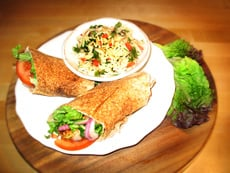curry: (153, 38, 215, 128), (166, 55, 215, 129)
soup: (45, 71, 157, 151)
sushi: (63, 19, 152, 82)
